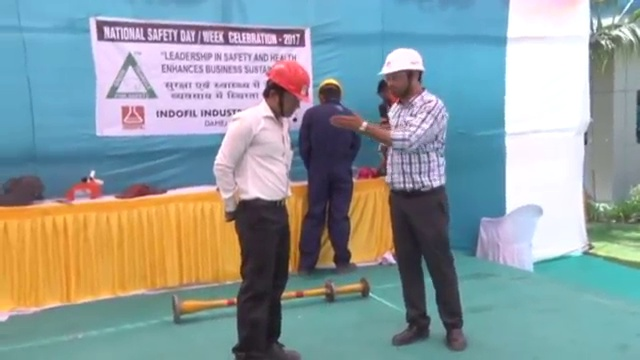helmet: (265, 57, 312, 103), (376, 48, 428, 76), (319, 77, 343, 95)
helmet_off: (373, 80, 400, 110)
helmet_on: (260, 56, 312, 123), (375, 48, 429, 109), (317, 75, 344, 108)
person: (330, 48, 470, 350), (213, 58, 311, 360), (298, 76, 362, 275)
